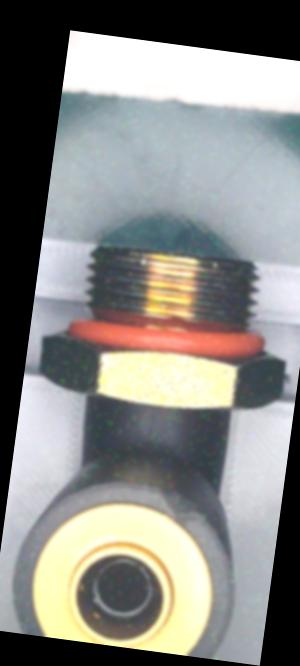bump: (159, 490, 207, 525)
joint line: (139, 402, 161, 457)
